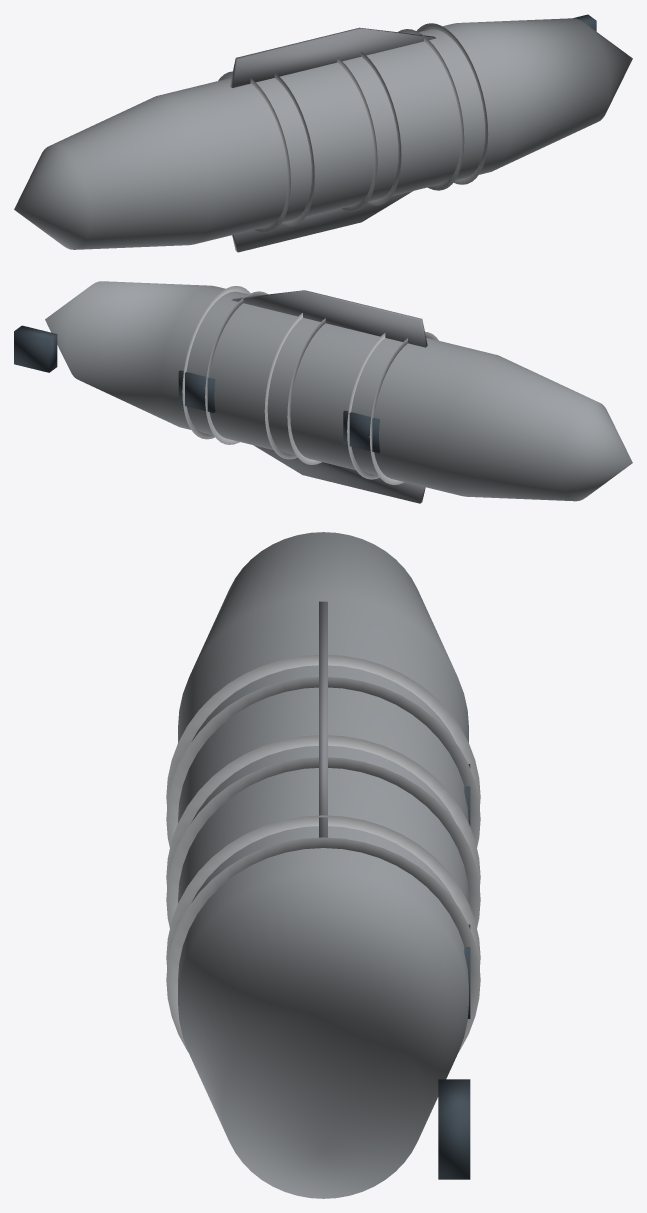
The model's file is RU_DECOY_MG74_LOD0.fbx.
3 renders of one model, top to bottom at view 1: azimuth 30°, elevation 25°; view 2: azimuth 150°, elevation 25°; view 3: azimuth 270°, elevation 25°, orthographic. The views are drawn at different scales.
Parts seen in each view (by area): view 1: WPN_RU_DECOY_MG74_LOD0_Body, WPN_RU_DECOY_MG74_LOD0_Detail; view 2: WPN_RU_DECOY_MG74_LOD0_Body, WPN_RU_DECOY_MG74_LOD0_Detail, WPN_RU_DECOY_MG74_LOD0_Seeker; view 3: WPN_RU_DECOY_MG74_LOD0_Body, WPN_RU_DECOY_MG74_LOD0_Detail, WPN_RU_DECOY_MG74_LOD0_Seeker.
Boxes of the visible parts, x1,y1,x2,y2 form: WPN_RU_DECOY_MG74_LOD0_Body: [14, 18, 632, 249]; WPN_RU_DECOY_MG74_LOD0_Detail: [218, 23, 488, 252]; WPN_RU_DECOY_MG74_LOD0_Body: [45, 281, 632, 501]; WPN_RU_DECOY_MG74_LOD0_Detail: [182, 286, 438, 503]; WPN_RU_DECOY_MG74_LOD0_Seeker: [14, 325, 379, 453]; WPN_RU_DECOY_MG74_LOD0_Body: [178, 532, 468, 1198]; WPN_RU_DECOY_MG74_LOD0_Detail: [166, 601, 480, 1052]; WPN_RU_DECOY_MG74_LOD0_Seeker: [438, 764, 470, 1179].
Bounding box in the file's own units: 1.4 × 0.324 × 0.417.
